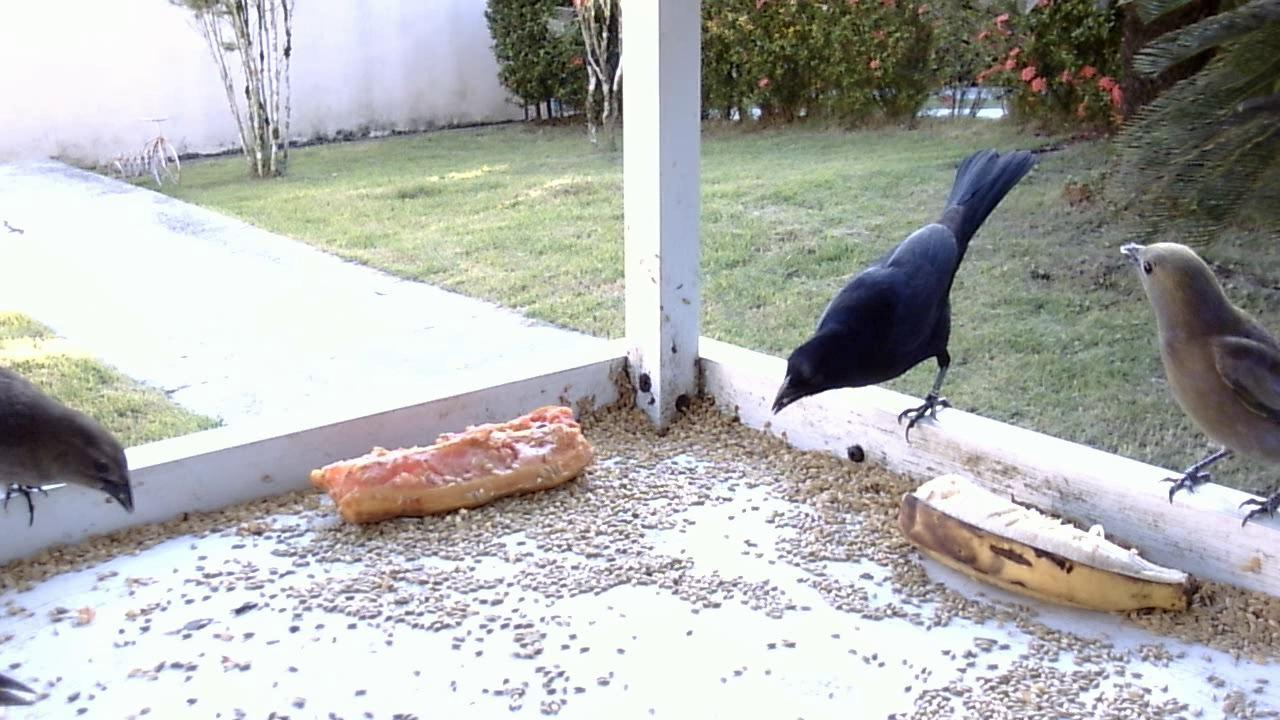chupim: (772, 148, 1056, 456), (1, 359, 146, 551)
sanhaco_do_coqueiro: (1109, 228, 1280, 538)
